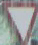Give way: (7, 2, 35, 44)
